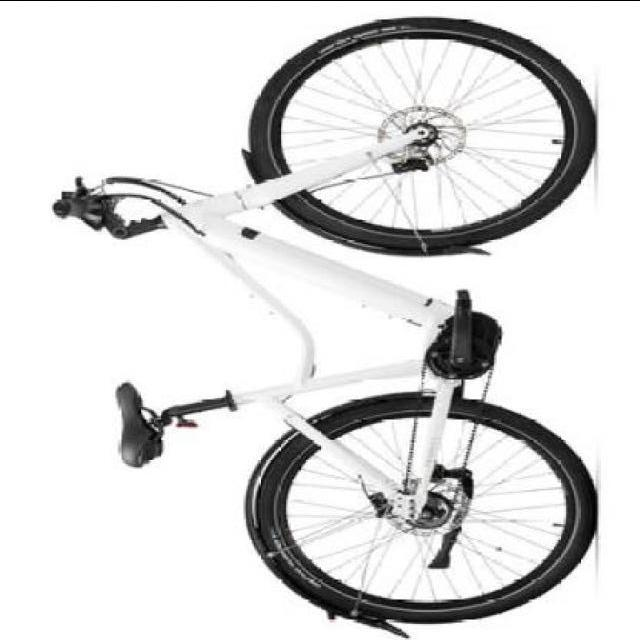bicycle: (57, 12, 603, 626)
